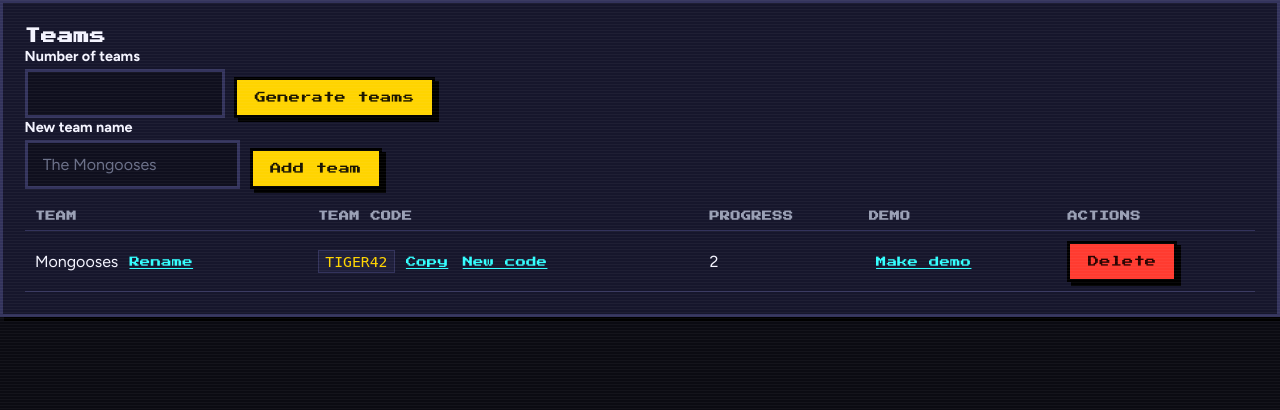
Scenario: TeamsPanel › surfaces a server refusal from the New code button
Click the button "New code". click: (505, 262)
box: top-left (456, 253), bottom-right (555, 271)
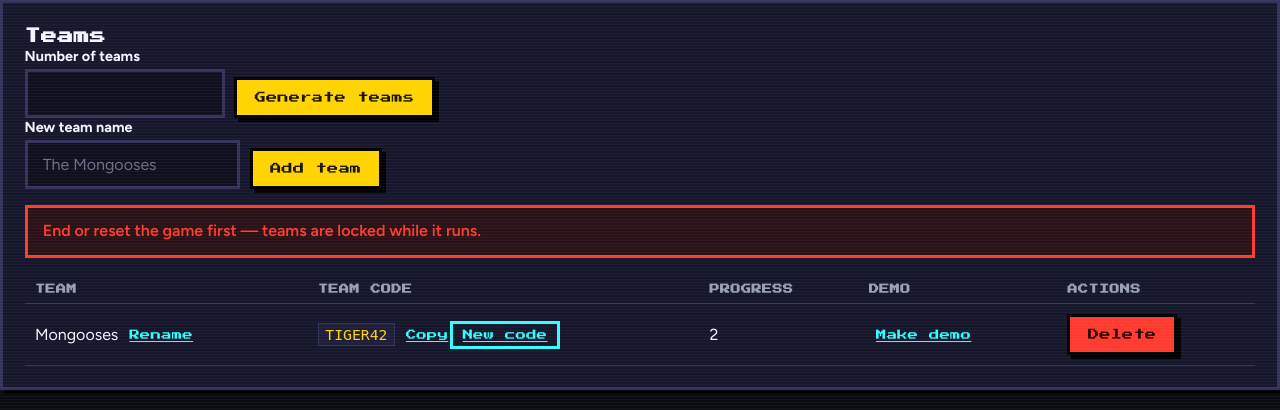
Now the text "End or reset the game first — teams are locked while it runs." is shown, box top-left (25, 205), bottom-right (1255, 258)
